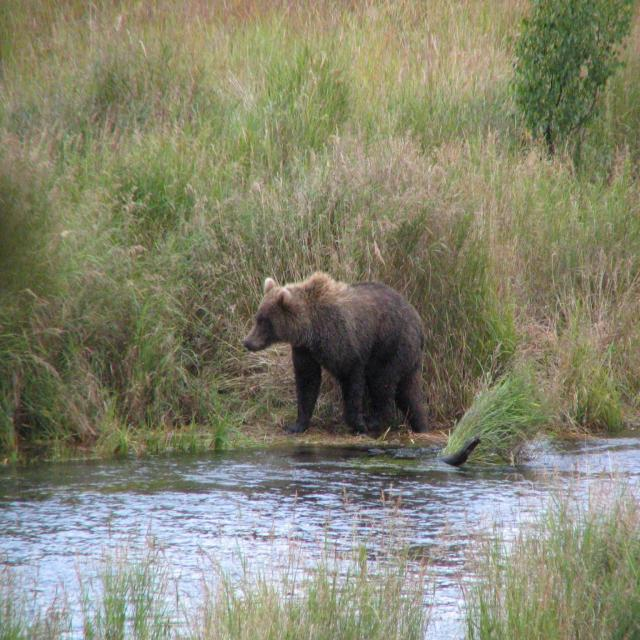bear face: (241, 276, 426, 427)
